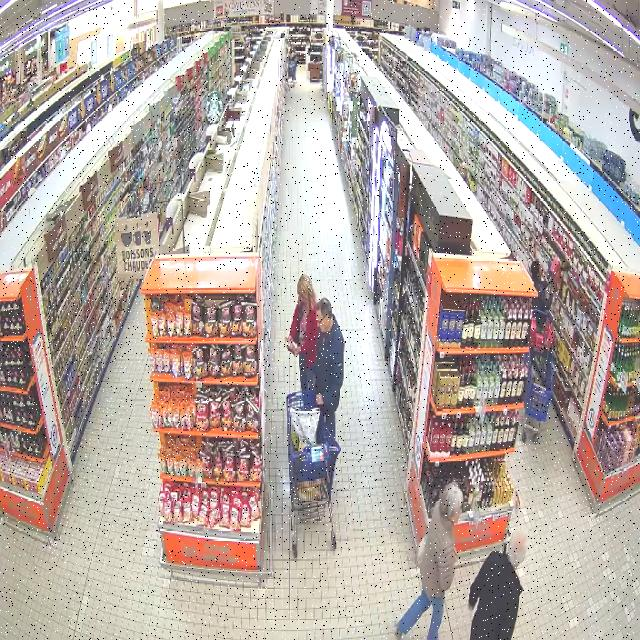article: (286, 337, 297, 355)
hands: (316, 394, 324, 405), (293, 346, 301, 357)
person: (395, 484, 462, 639), (468, 532, 525, 639), (313, 298, 344, 437), (289, 276, 316, 390)
